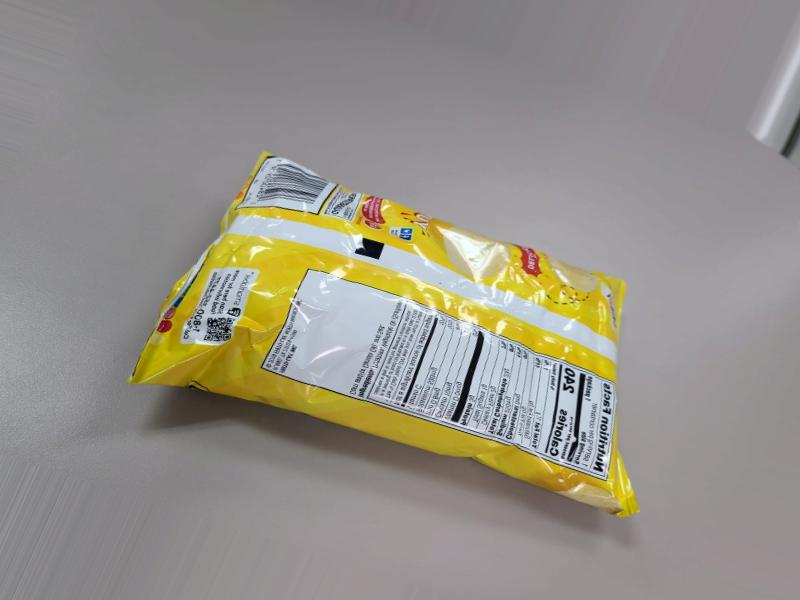lays: (146, 248, 637, 557)
